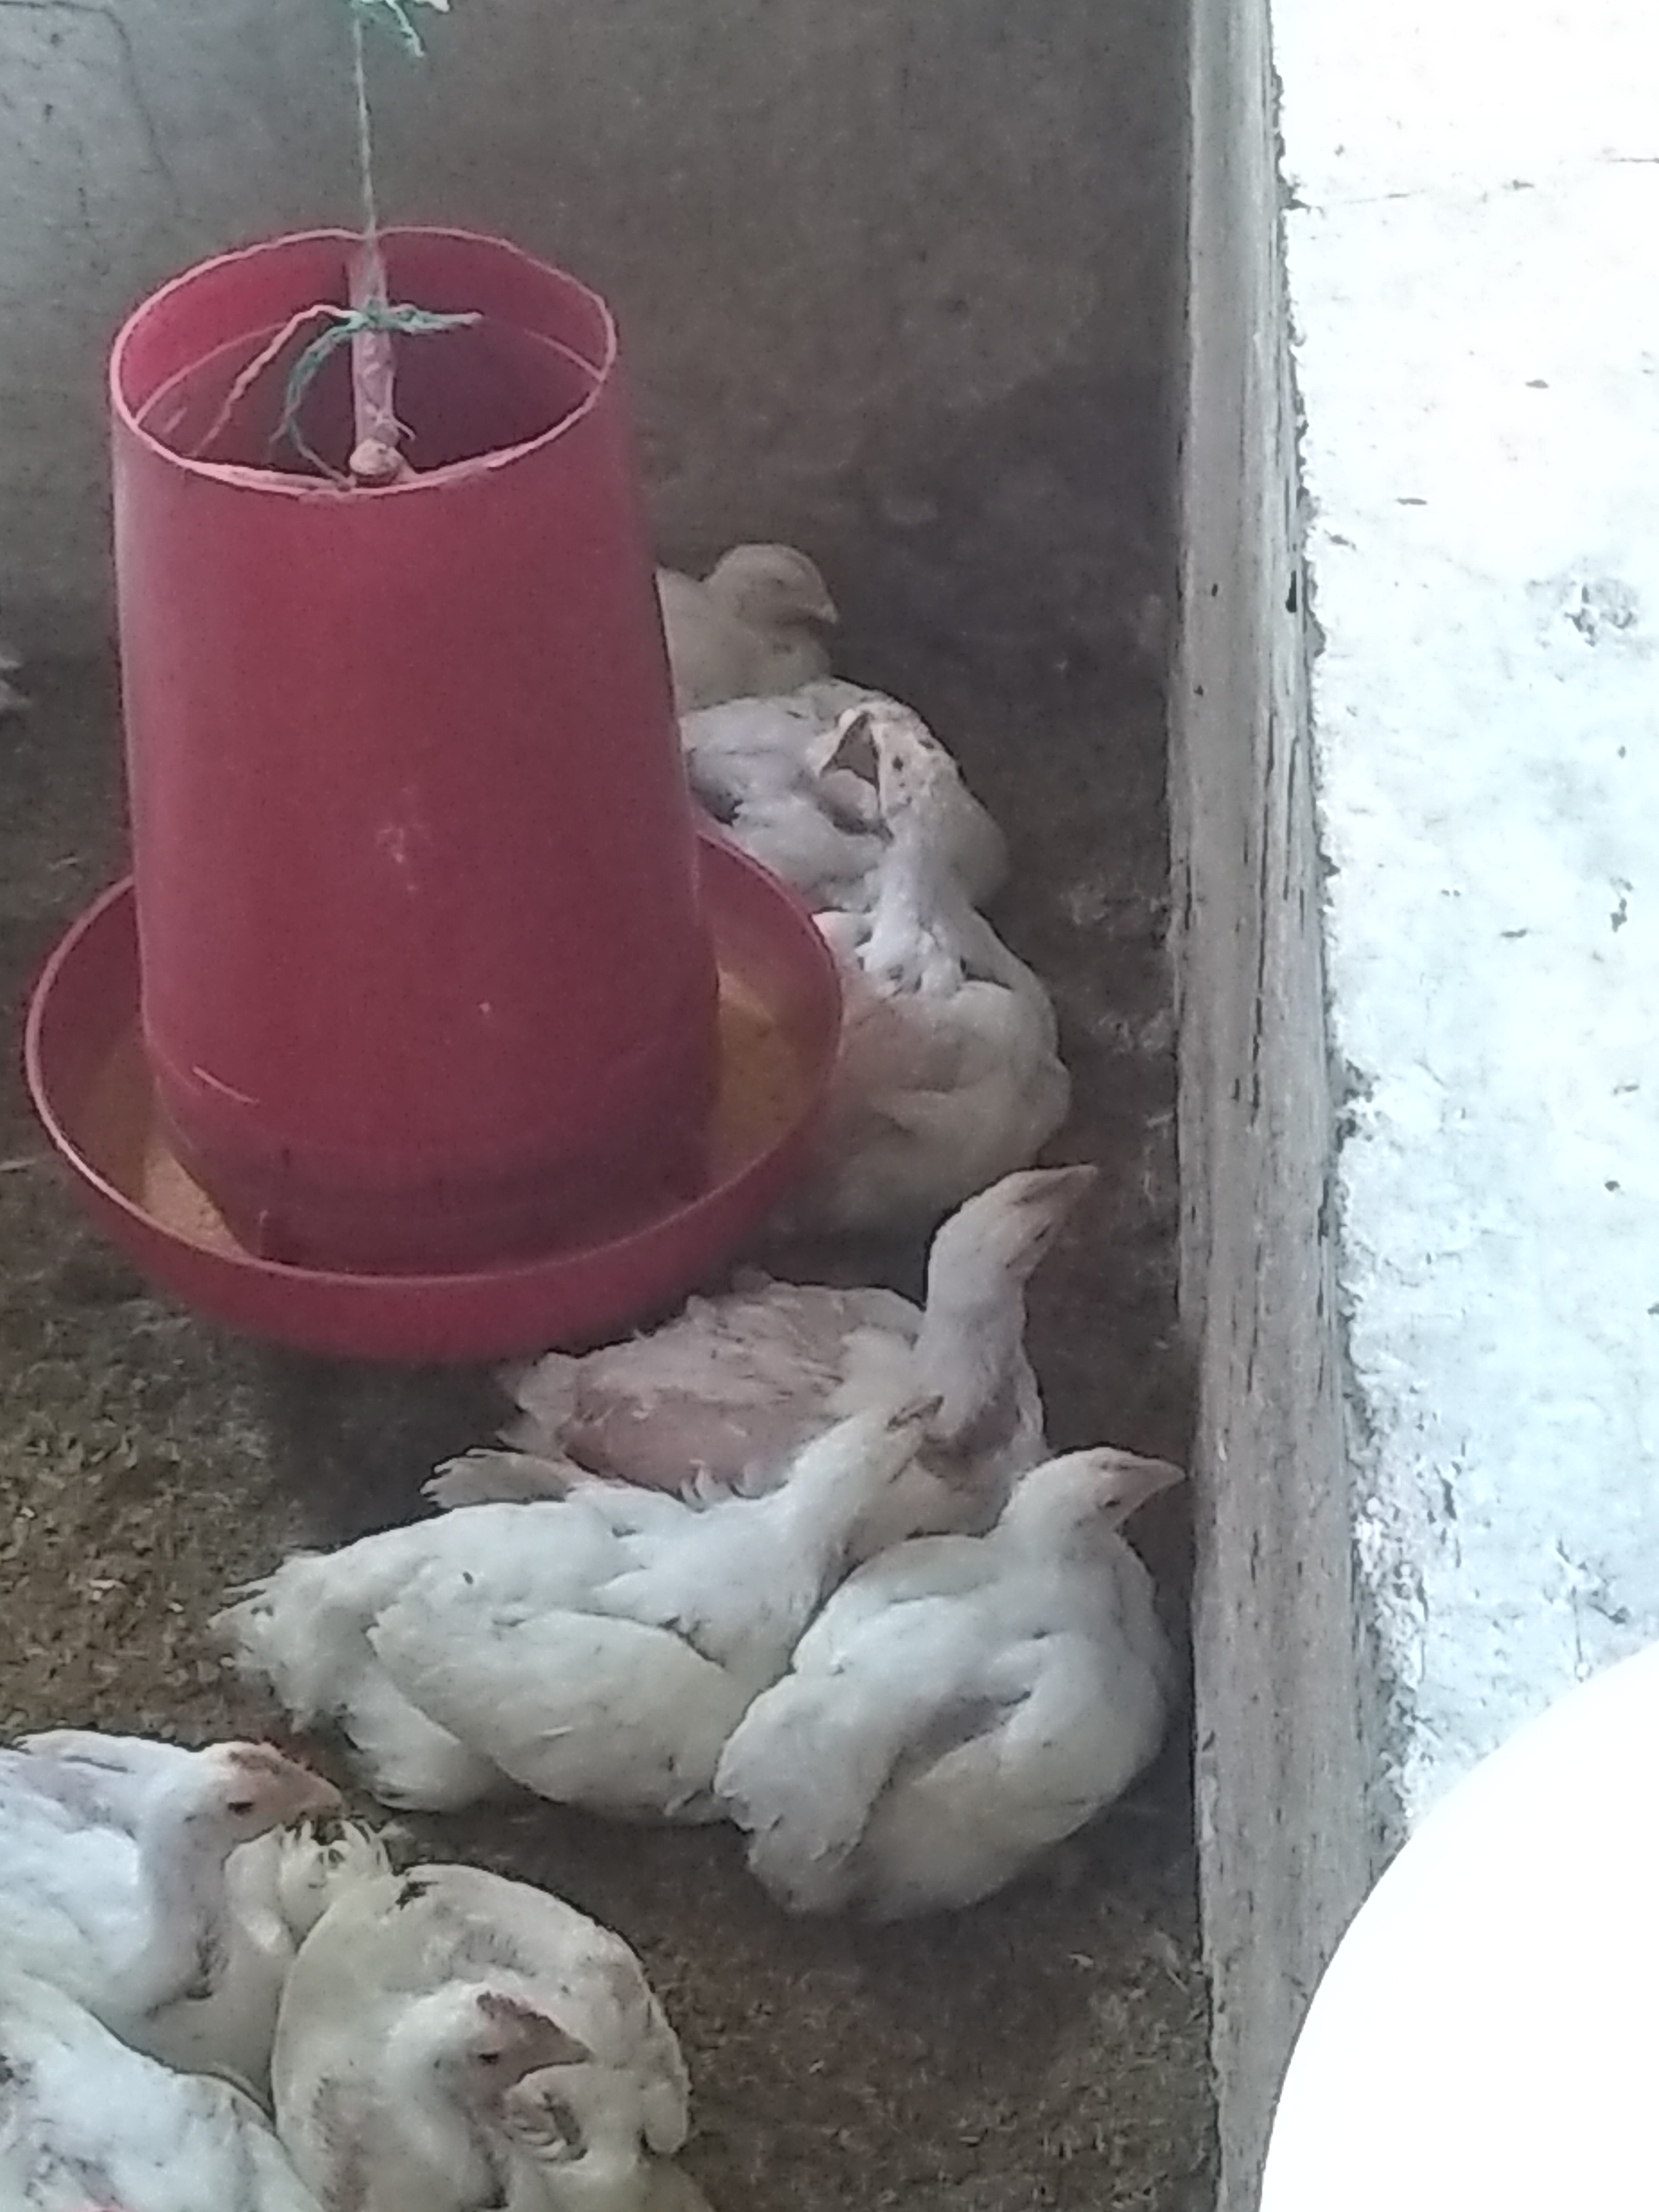Pollos: (228, 1369, 955, 1750), (504, 1130, 1155, 1435), (922, 1426, 1223, 1907), (0, 1698, 364, 1994), (247, 1989, 577, 2212), (647, 523, 847, 690), (814, 712, 976, 831)
